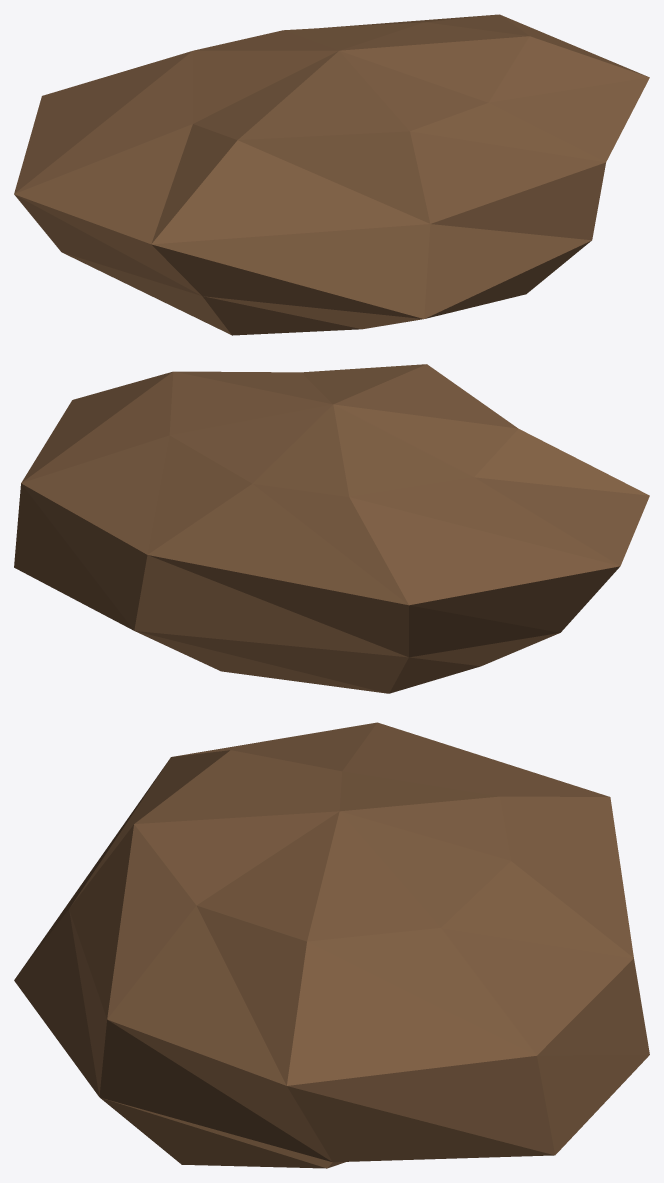
The model's file is dirt_mound.glb.
3 renders of one model, top to bottom at view 1: azimuth 30°, elevation 25°; view 2: azimuth 150°, elevation 25°; view 3: azimuth 270°, elevation 25°, orthographic. The views are drawn at different scales.
Visible parts, largest first — view 1: dirt_mound; view 2: dirt_mound; view 3: dirt_mound.
Part boxes in pixels (x1=…): dirt_mound: x1=14, y1=14, x2=649, y2=335; dirt_mound: x1=14, y1=364, x2=649, y2=693; dirt_mound: x1=14, y1=722, x2=649, y2=1168.
Bounding box in the file's own units: 2.85 × 1.1 × 2.13.
